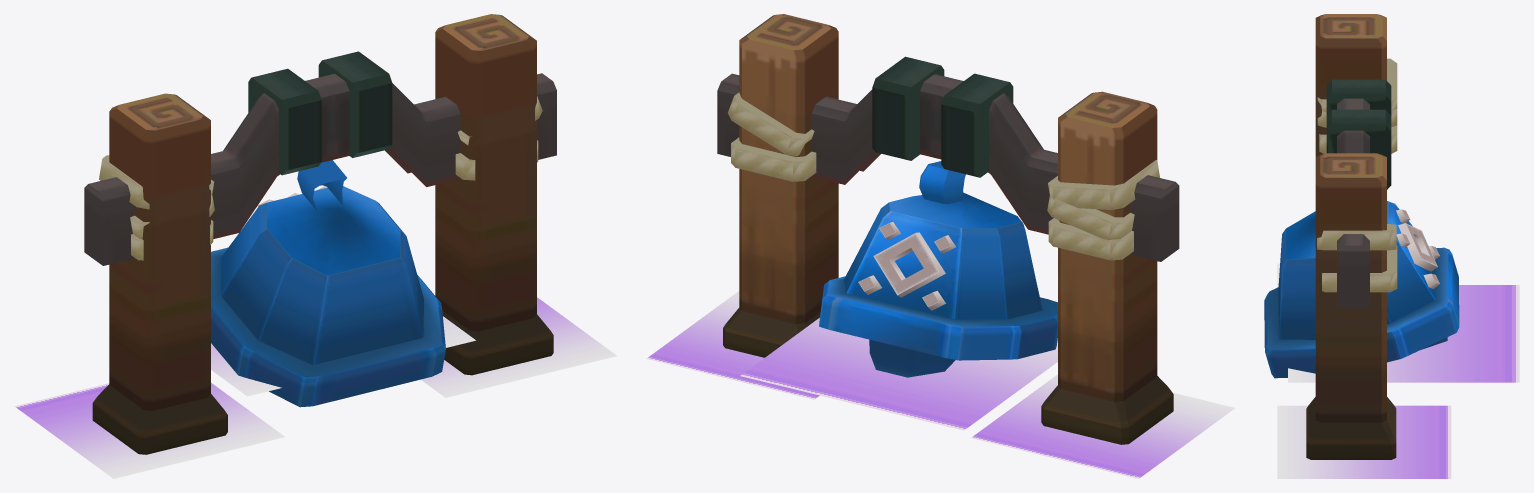
Rendered from [gimmick]bell_blue.fbx.
3 views of the same model, side by side, from view 1: azimuth 30°, elevation 25°; view 2: azimuth 150°, elevation 25°; view 3: azimuth 270°, elevation 25° (orthographic). The views are drawn at different scales.
Visible parts, largest first — view 1: [gimmick]bell_blue, bell_blue, shadow2, shadow1, shadow; view 2: [gimmick]bell_blue, bell_blue, shadow, shadow2, shadow1; view 3: [gimmick]bell_blue, bell_blue, shadow, shadow1.
Part boxes in pixels (x1,y1,x2,y2): [gimmick]bell_blue: (84,14,556,454); bell_blue: (211,160,445,407); shadow2: (15,383,284,478); shadow1: (421,297,616,397); shadow: (211,316,475,396); [gimmick]bell_blue: (717,14,1179,444); bell_blue: (819,161,1057,377); shadow: (740,317,1057,430); shadow2: (971,374,1235,478); shadow1: (646,291,819,399); [gimmick]bell_blue: (1306,14,1397,459); bell_blue: (1264,201,1459,378); shadow: (1288,285,1519,382); shadow1: (1277,405,1451,478).
Size of the model in its own units: 2.64 by 1.59 by 1.32.
